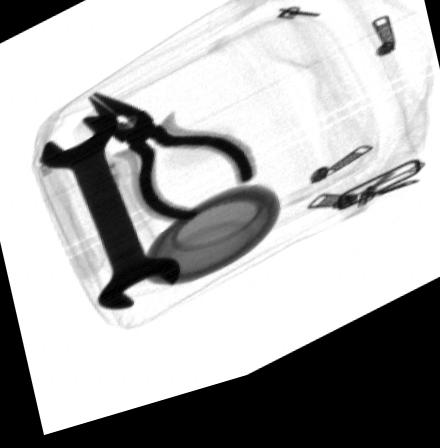Pliers: (85, 94, 254, 234)
Wrench: (38, 118, 181, 315)
